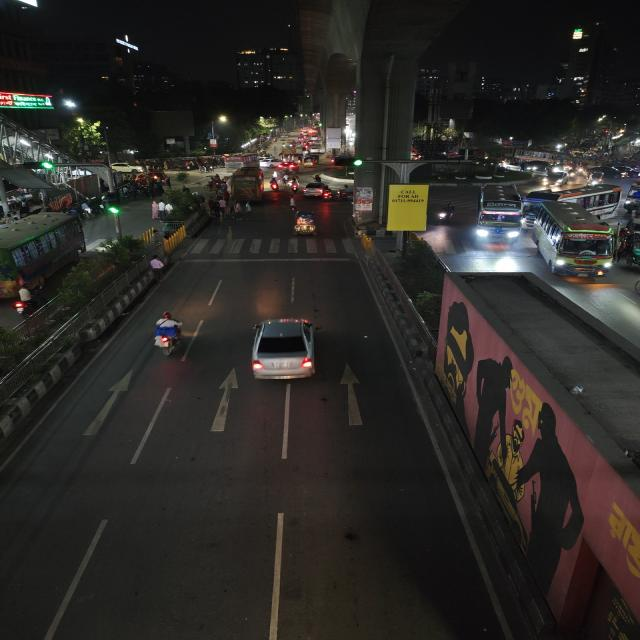bus: (0, 212, 87, 300), (528, 203, 621, 281), (471, 183, 525, 251), (554, 183, 626, 217), (229, 171, 264, 201), (224, 156, 259, 168)
car: (246, 315, 324, 388), (302, 180, 334, 200), (538, 172, 569, 190), (595, 166, 629, 178), (258, 156, 280, 168), (280, 159, 300, 171)
cng: (291, 208, 318, 236)
motorcycle: (145, 310, 187, 358), (11, 284, 40, 316), (436, 201, 458, 227), (267, 175, 281, 193), (287, 175, 301, 193), (276, 173, 286, 192)
pedestrian: (145, 254, 168, 285), (205, 196, 217, 218), (147, 200, 159, 220), (156, 198, 167, 218), (217, 199, 229, 214), (235, 200, 243, 222), (287, 195, 297, 210), (245, 202, 252, 218)
